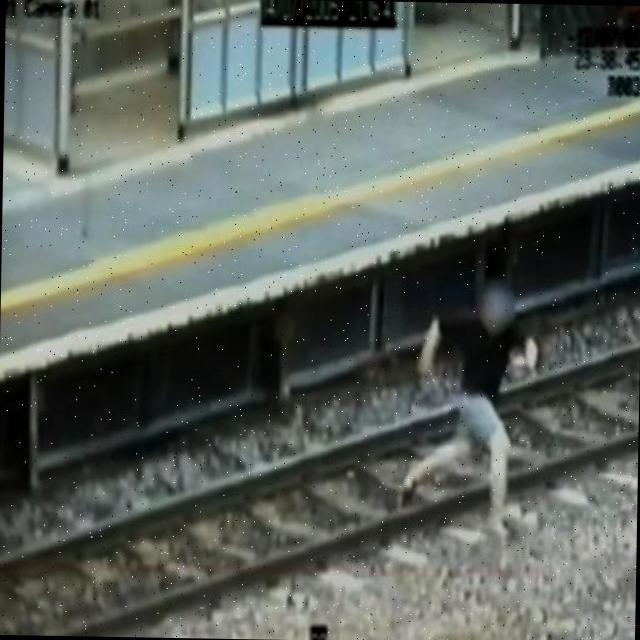person: (399, 275, 542, 538)
